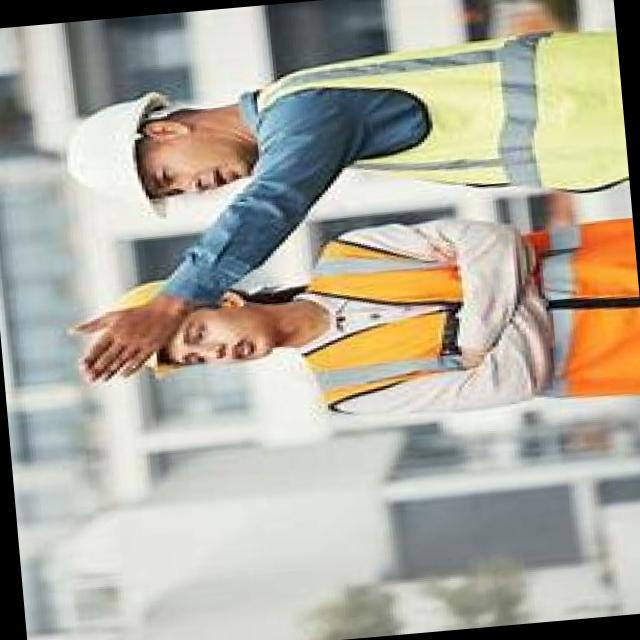not-gloved: (61, 274, 196, 384)
